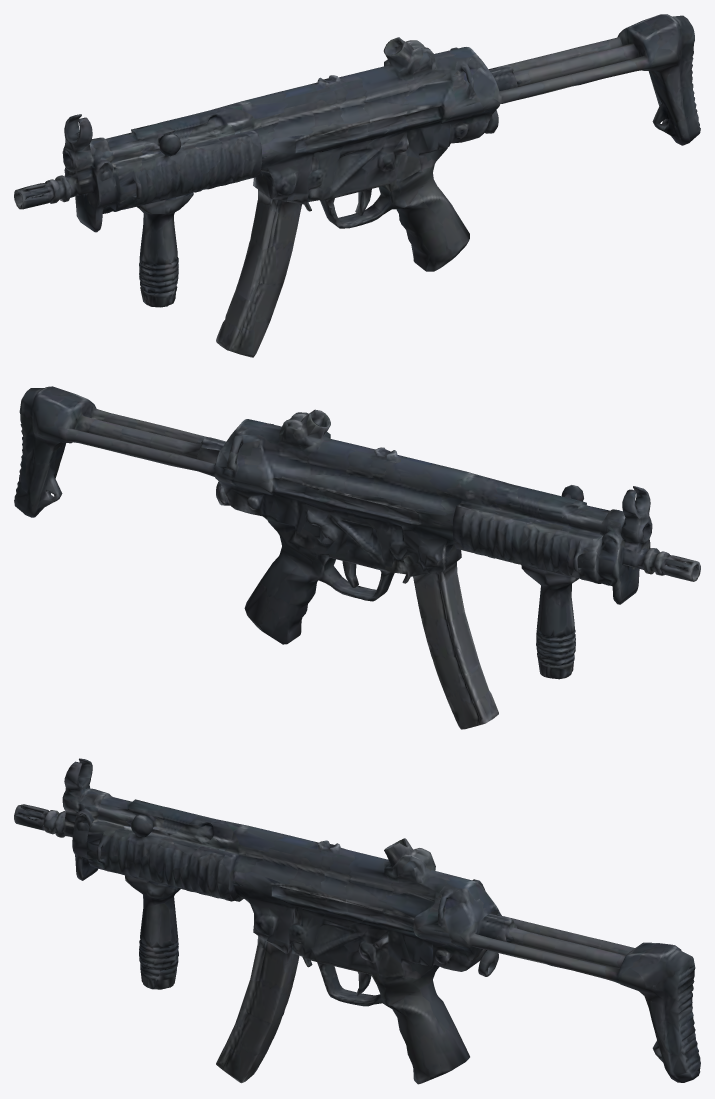
Rendered from smg.glb.
3 renders of one model, top to bottom at view 1: azimuth 30°, elevation 25°; view 2: azimuth 150°, elevation 25°; view 3: azimuth 330°, elevation 25°, orthographic.
Size of the model in its own units: 1.9 by 0.7432 by 0.2063.
1 material, 1 textured.
